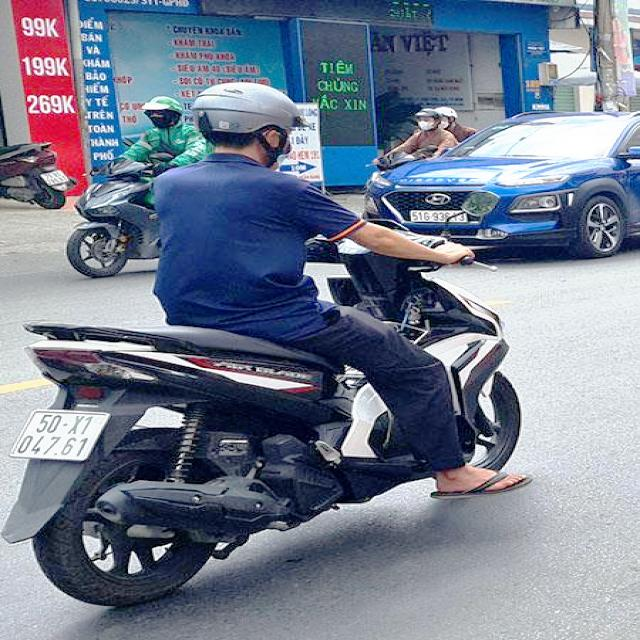license_plate: (11, 411, 107, 463)
